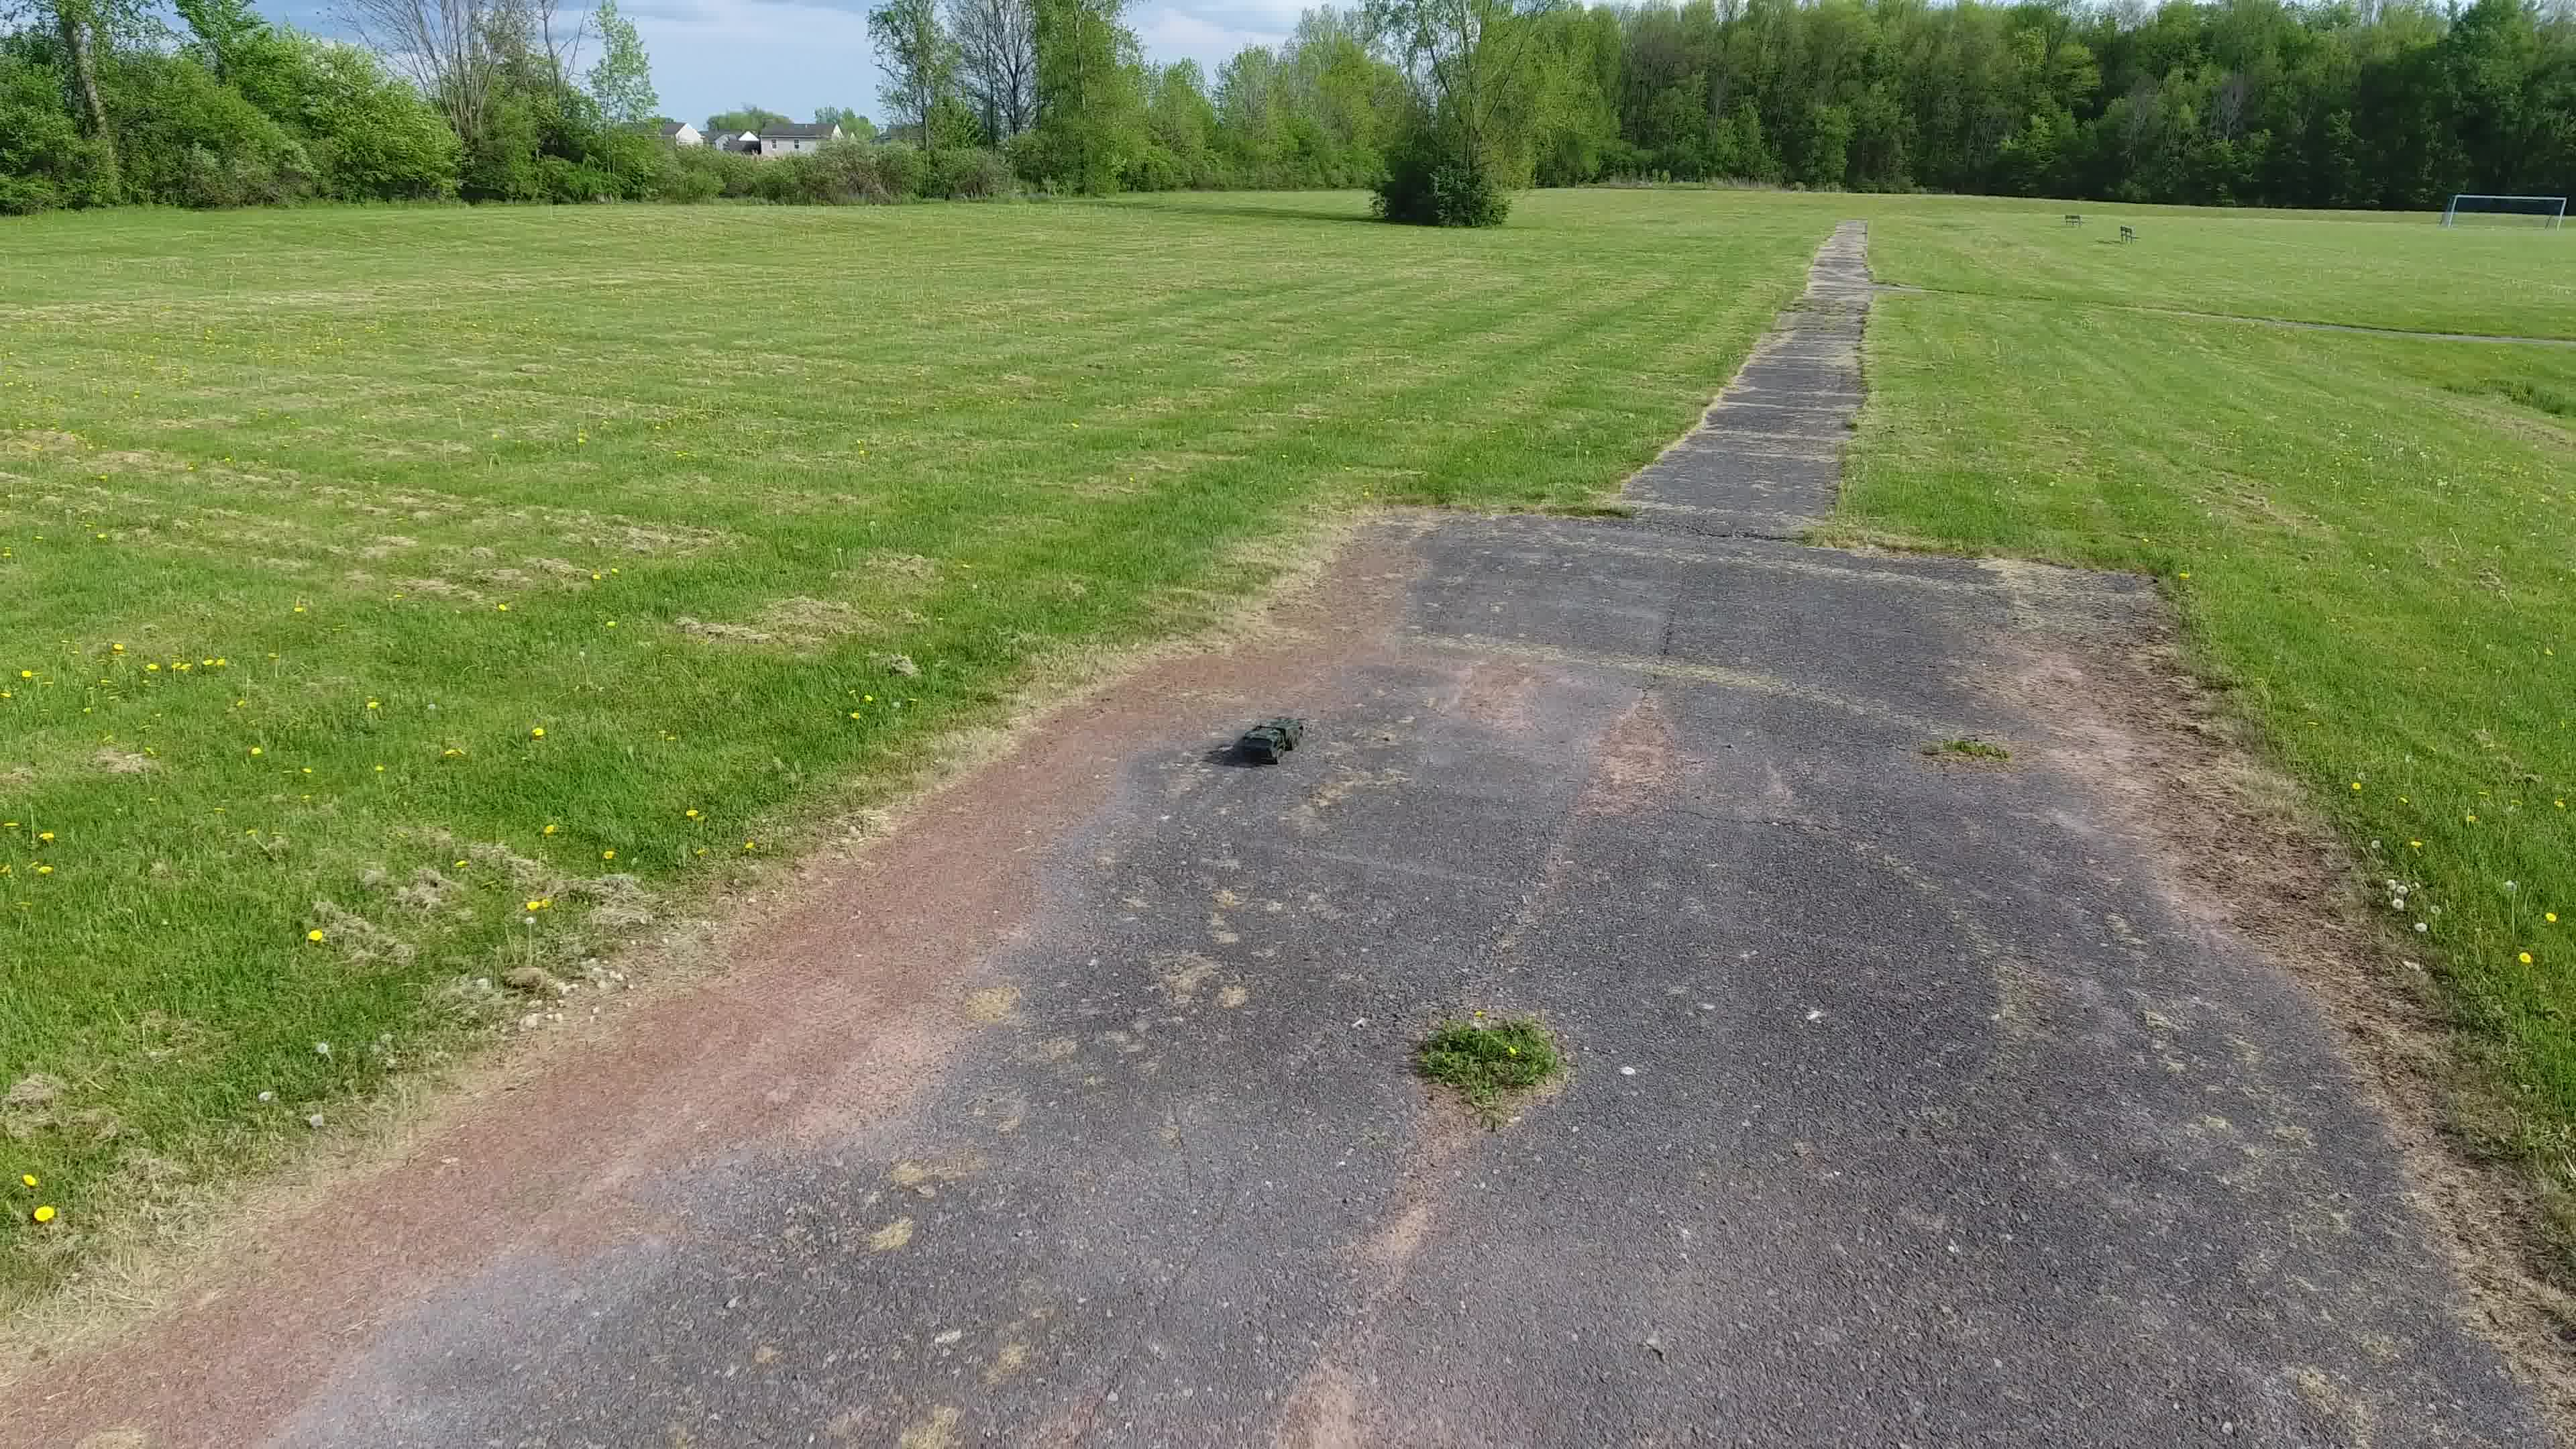transporter9_camo: (1238, 715, 1304, 764)
